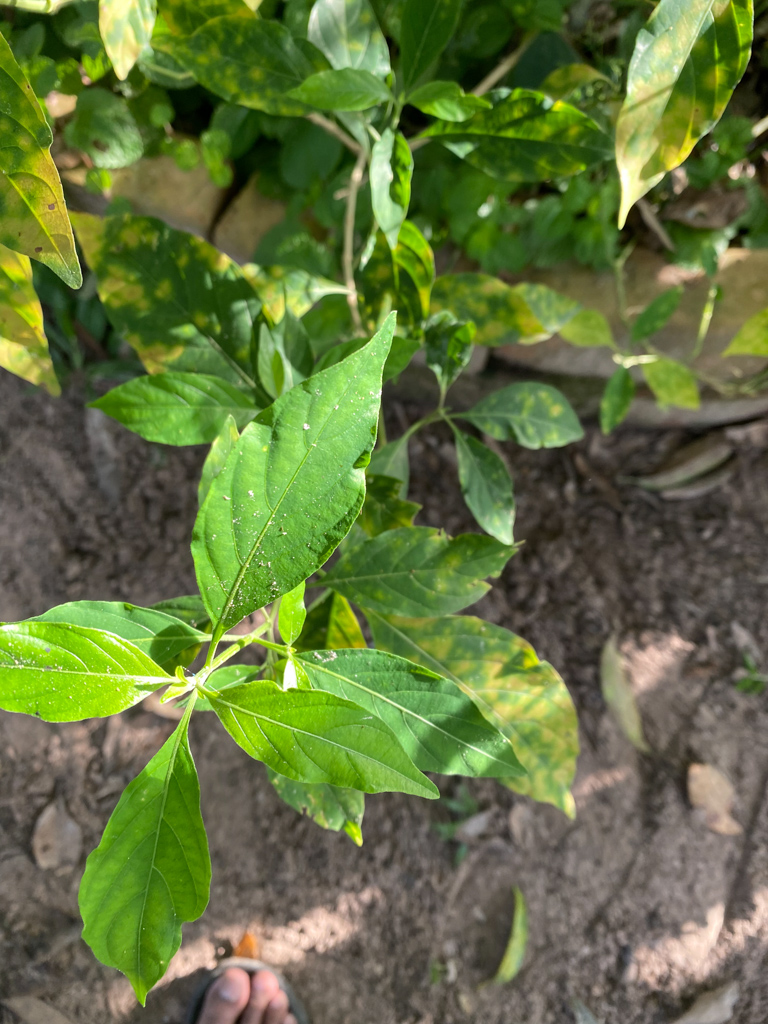Pepper yellow leaf: (372, 605, 588, 817), (67, 201, 283, 376), (611, 1, 756, 235), (1, 36, 84, 305), (161, 16, 341, 121), (414, 270, 544, 355), (4, 250, 65, 415), (93, 1, 159, 84), (634, 350, 705, 412)
